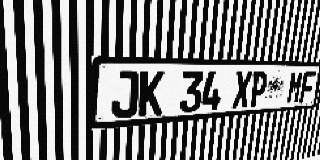3: (179, 71, 203, 113)
4: (200, 71, 223, 111)
F: (299, 71, 316, 103)
J: (111, 71, 139, 119)
K: (138, 71, 164, 117)
M: (286, 71, 304, 104)
P: (248, 71, 268, 107)
X: (232, 71, 253, 109)
